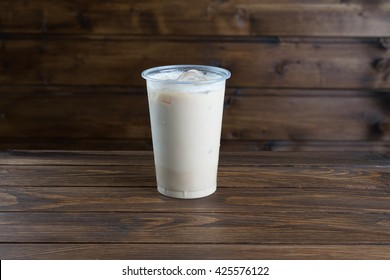plastic_glass: (139, 62, 235, 204)
